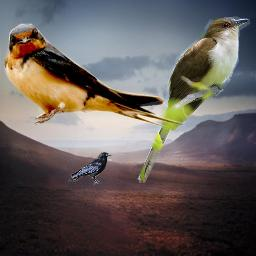Crow: (68, 151, 112, 185)
Cuckoo: (137, 16, 250, 183)
Swallow: (2, 23, 185, 135)
